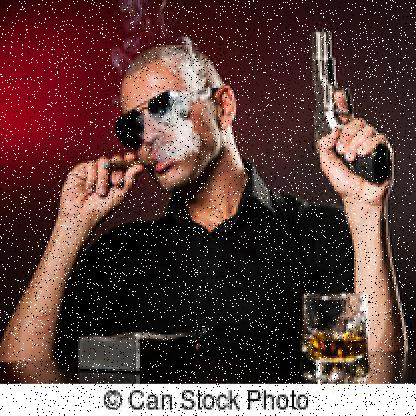pistol: (308, 28, 390, 185)
